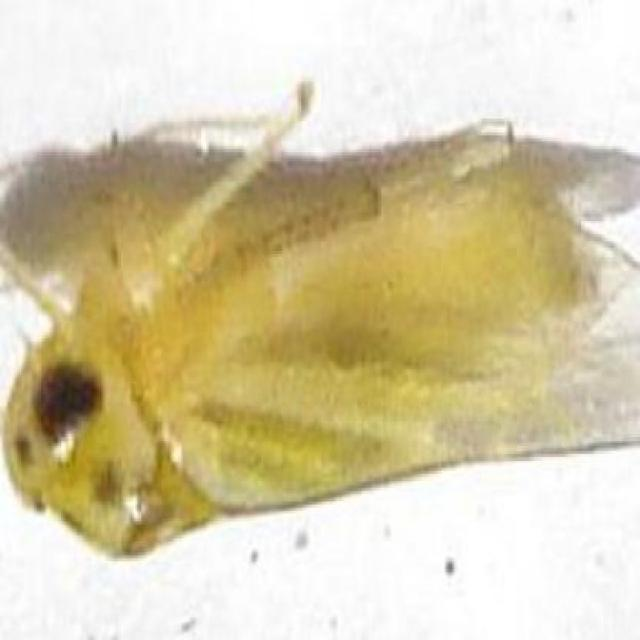green-leafhopper: (1, 137, 640, 540)
